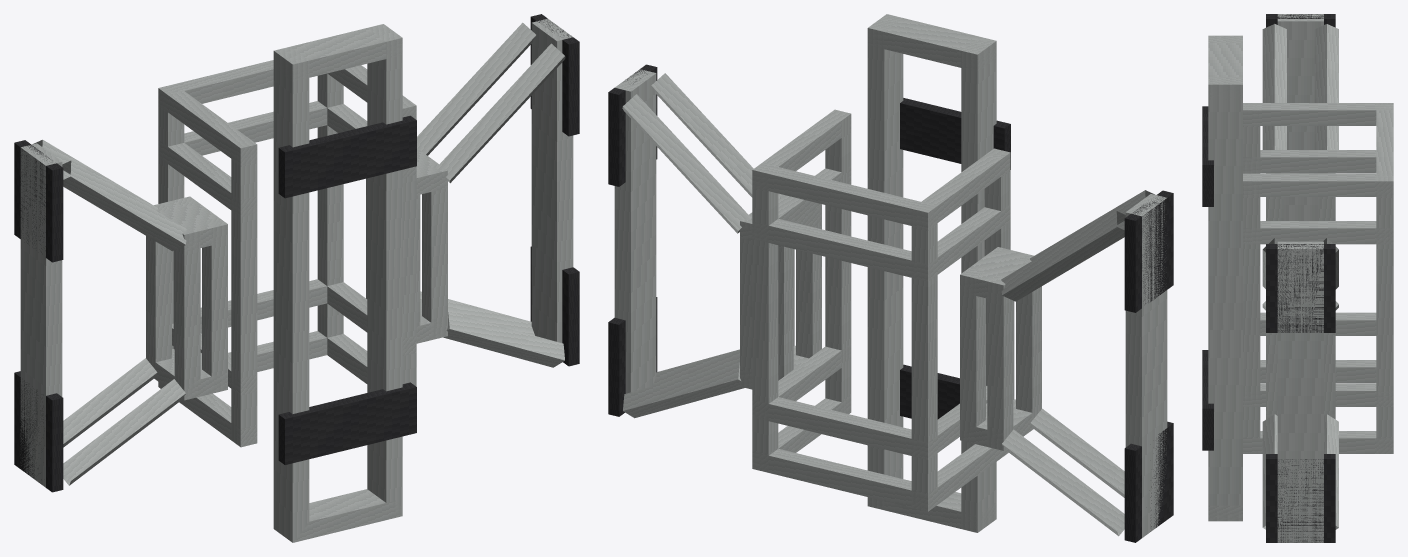
File: mount_ladwp_3_item.obj
3 renders of one model, left to right at view 1: azimuth 30°, elevation 25°; view 2: azimuth 150°, elevation 25°; view 3: azimuth 270°, elevation 25°, orthographic. The views are drawn at different scales.
Visible parts, largest first — view 1: transformer_bank_mount_ladwp_3_item; view 2: transformer_bank_mount_ladwp_3_item; view 3: transformer_bank_mount_ladwp_3_item.
Boxes of the visible parts, x1,y1,x2,y2 form: transformer_bank_mount_ladwp_3_item: (14,14,579,542); transformer_bank_mount_ladwp_3_item: (608,14,1173,542); transformer_bank_mount_ladwp_3_item: (1202,14,1393,542).
Size of the model in its own units: 3 by 2.6 by 1.03.
